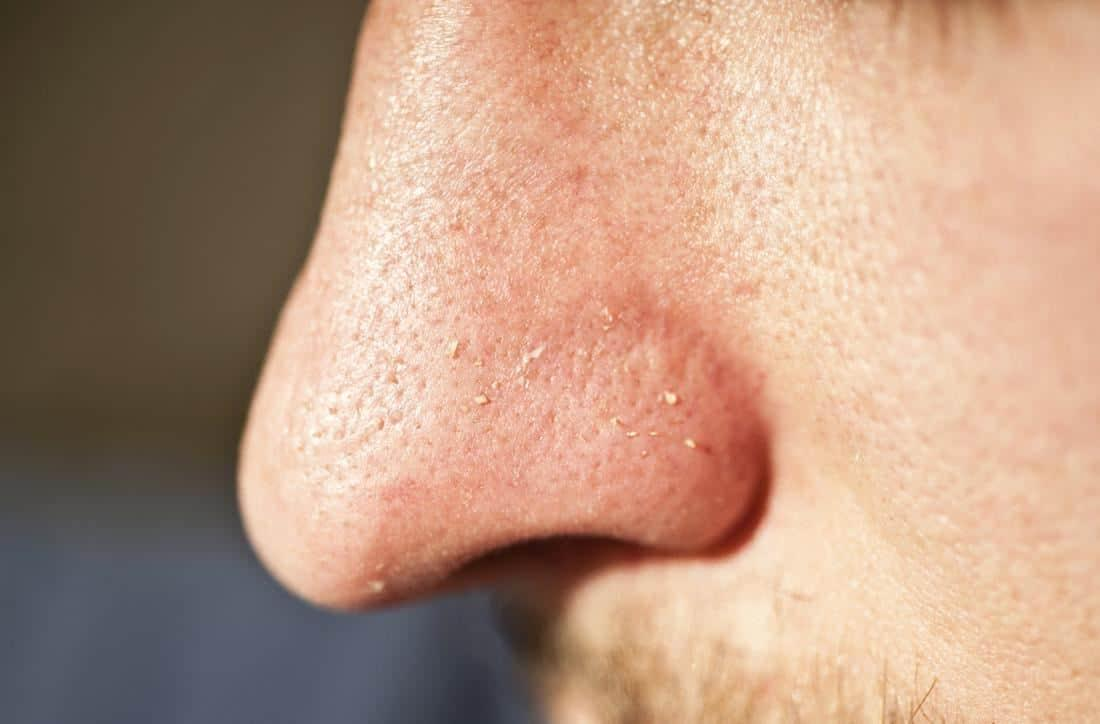Acne: (355, 284, 716, 595)
